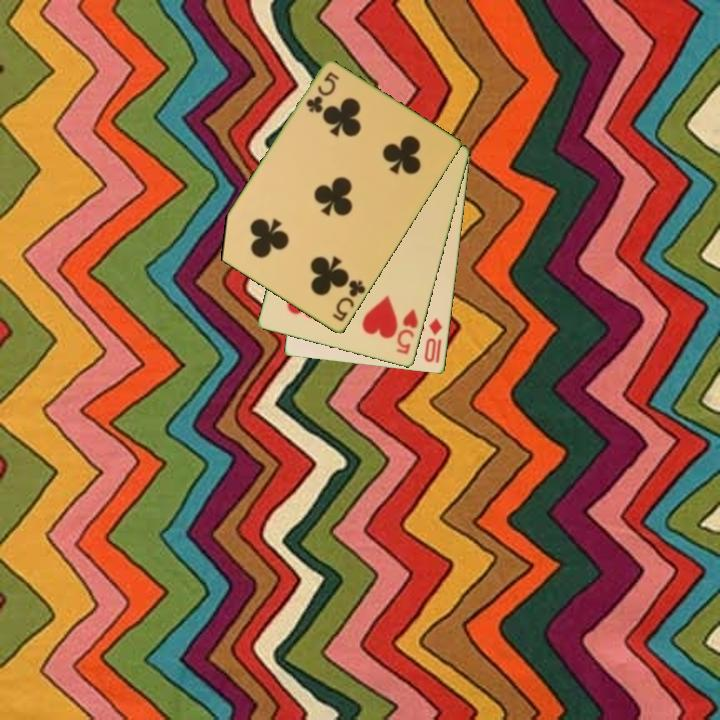10d: (421, 315, 445, 365)
5c: (329, 276, 369, 325), (302, 69, 343, 116)
5h: (393, 306, 421, 358)
